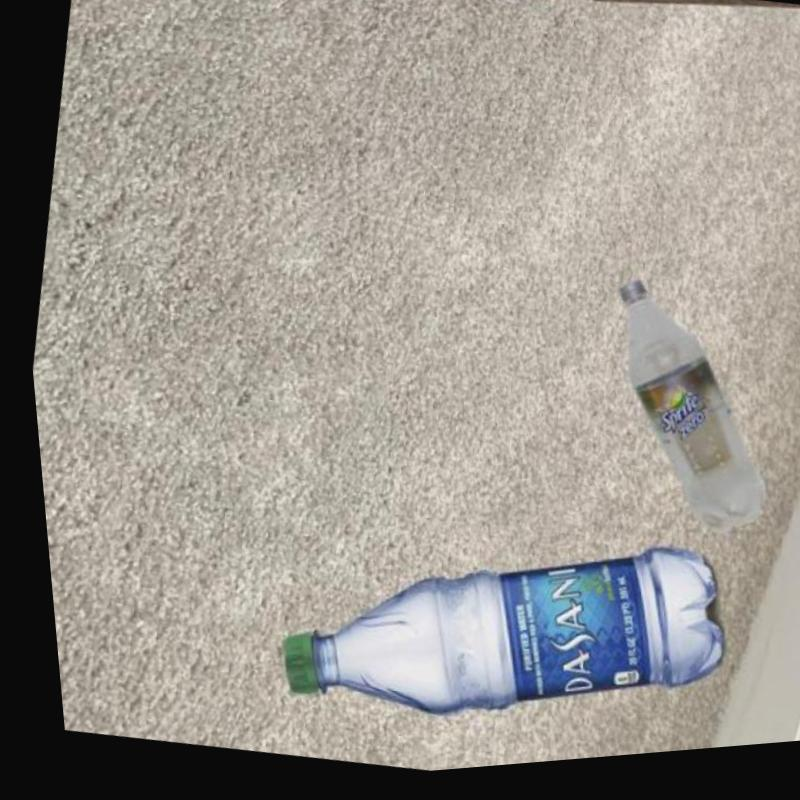botella: (248, 482, 733, 781), (571, 277, 791, 548)
